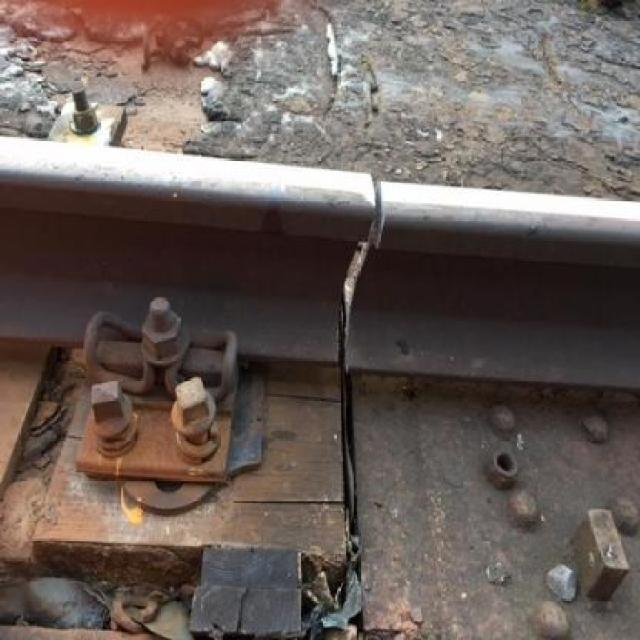defective: (230, 146, 490, 490)
